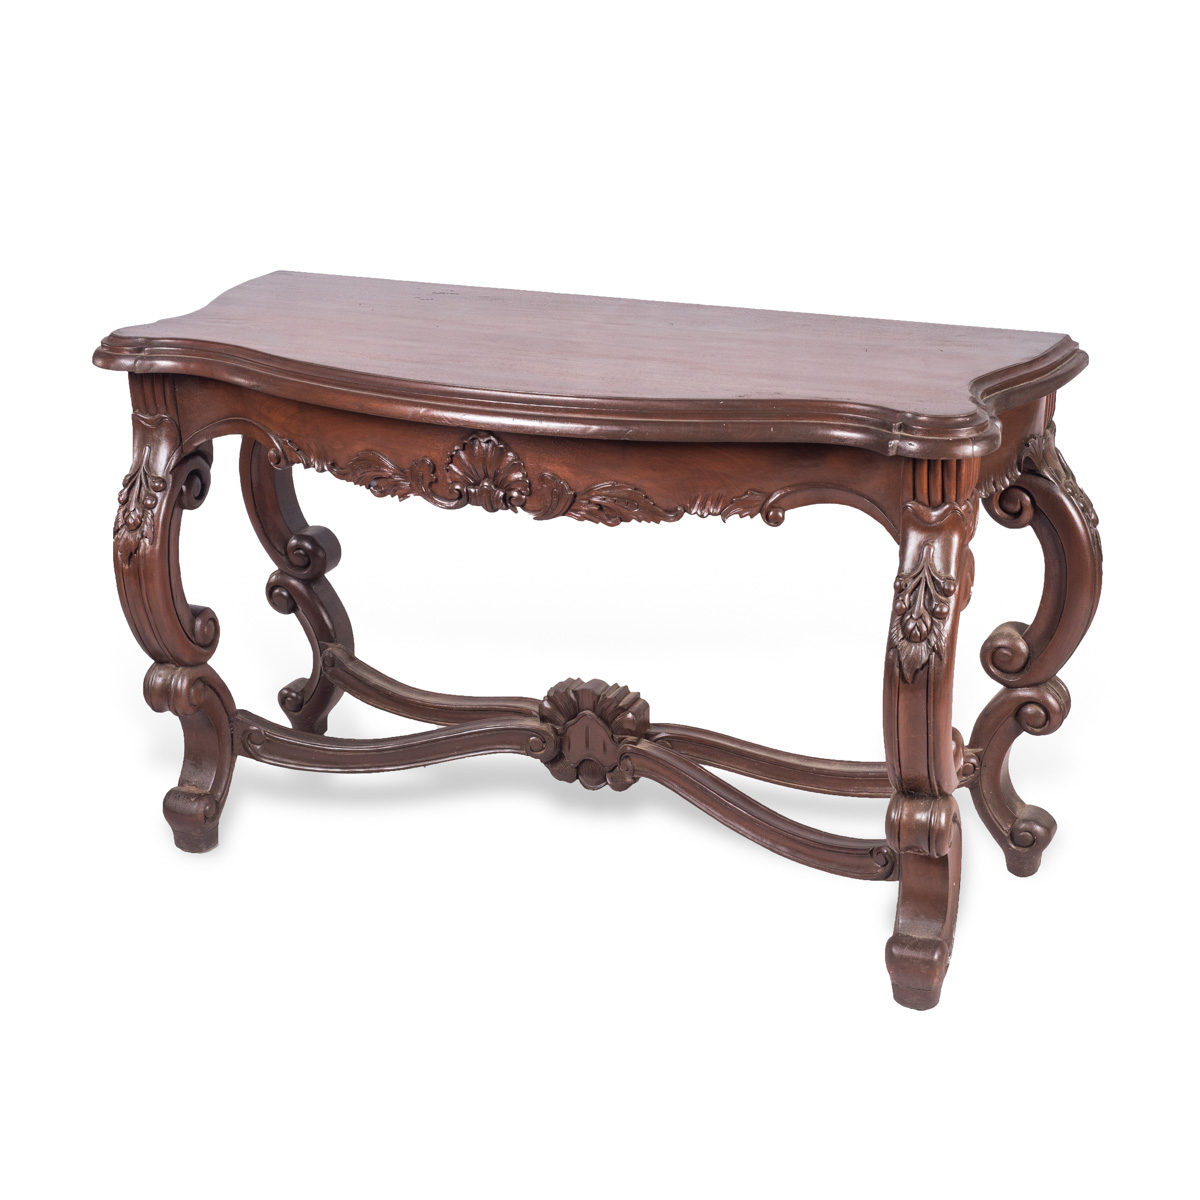Carving Table: (68, 254, 1101, 1005)
